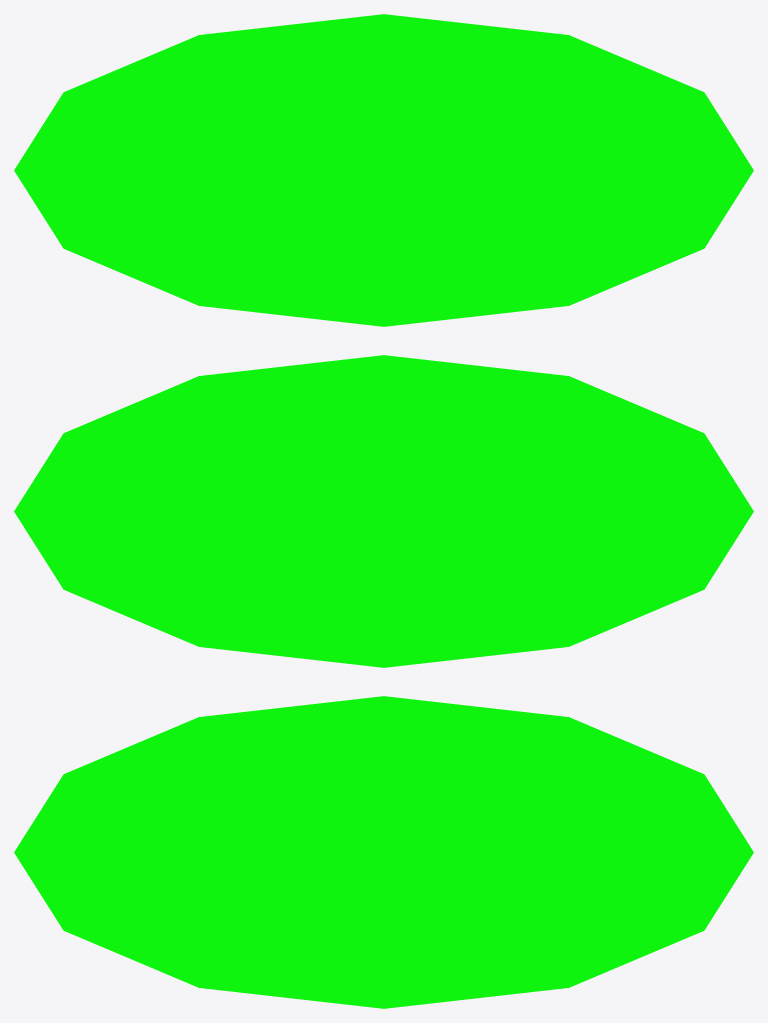
Rendered from s07z_na2-floor.glb.
The picture shows the model from 3 angles, top to bottom: view 1: azimuth 30°, elevation 25°; view 2: azimuth 150°, elevation 25°; view 3: azimuth 270°, elevation 25°; orthographic projection.
Parts seen in each view (by area): view 1: collision_floor-colonly; view 2: collision_floor-colonly; view 3: collision_floor-colonly.
Boxes of the visible parts, x1,y1,x2,y2 form: collision_floor-colonly: (14, 14, 753, 326); collision_floor-colonly: (14, 355, 753, 667); collision_floor-colonly: (14, 696, 753, 1008).
Bounding box in the file's own units: 32.3 × 0.0996 × 32.3.
